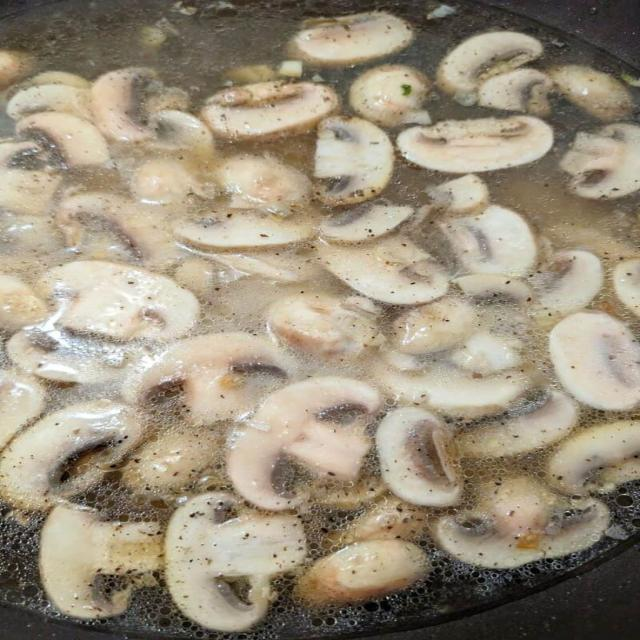champignon mushrooms: (227, 377, 380, 510), (165, 493, 306, 631), (431, 477, 609, 568), (0, 399, 142, 510), (122, 333, 293, 423), (40, 504, 163, 619), (41, 261, 199, 340), (6, 315, 139, 384), (55, 192, 177, 266), (549, 311, 639, 411), (397, 116, 553, 173), (318, 236, 448, 304), (297, 540, 428, 605), (376, 407, 461, 506), (380, 363, 528, 417), (457, 391, 578, 457), (201, 82, 339, 139), (437, 32, 542, 104), (267, 294, 383, 357), (314, 116, 393, 205), (92, 68, 187, 142), (438, 205, 537, 276), (548, 421, 639, 494), (290, 12, 413, 66), (122, 429, 220, 495), (560, 123, 639, 199), (216, 155, 310, 216), (174, 210, 313, 249), (16, 112, 110, 168), (532, 250, 603, 323), (350, 65, 431, 126), (393, 297, 478, 355), (329, 497, 426, 546), (547, 65, 632, 120), (0, 141, 61, 216), (320, 202, 413, 242), (478, 68, 553, 116), (0, 369, 45, 449), (147, 109, 214, 161), (300, 472, 387, 510), (131, 158, 202, 204), (449, 331, 522, 375), (207, 253, 313, 282), (7, 84, 92, 120), (0, 274, 46, 330), (426, 174, 489, 213), (454, 274, 533, 304), (614, 258, 639, 315), (0, 49, 33, 90), (20, 71, 91, 89)
